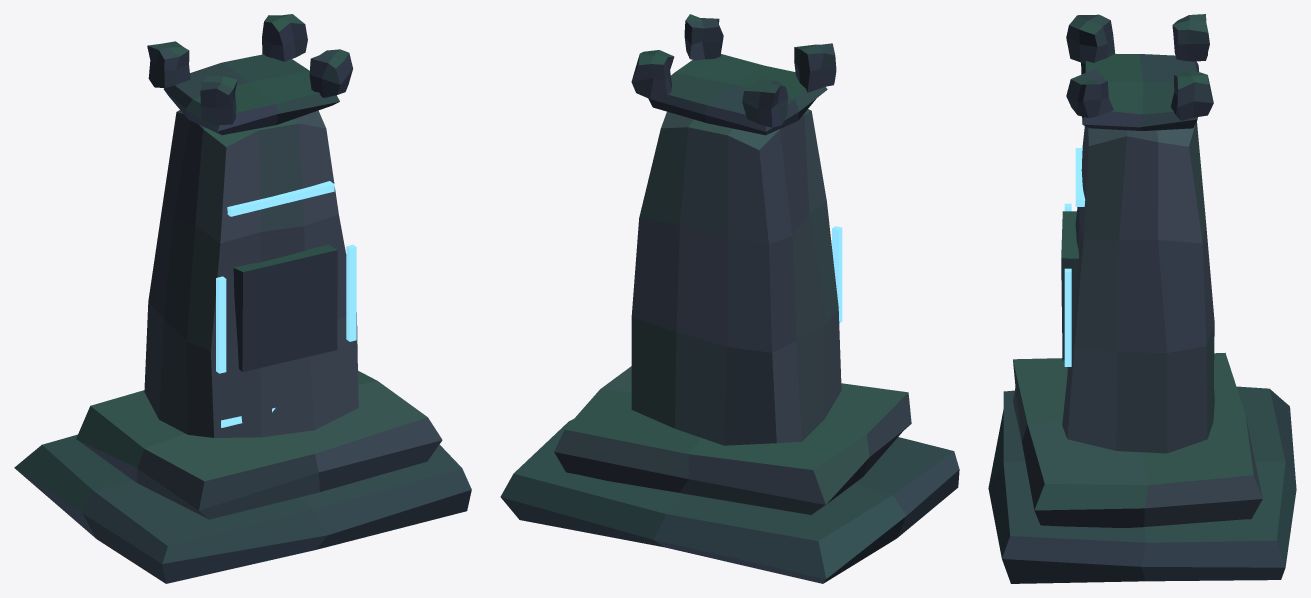
The model's file is skill_rock_0.glb.
The picture shows the model from 3 angles, left to right: view 1: azimuth 30°, elevation 25°; view 2: azimuth 150°, elevation 25°; view 3: azimuth 270°, elevation 25°; orthographic projection.
Parts seen in each view (by area): view 1: skill_rock_0; view 2: skill_rock_0; view 3: skill_rock_0.
Boxes of the visible parts, left/top/right/bottom form: skill_rock_0: left=14, top=14, right=471, bottom=583; skill_rock_0: left=500, top=14, right=959, bottom=583; skill_rock_0: left=988, top=14, right=1296, bottom=583.
Bounding box in the file's own units: 3.04 × 3.84 × 2.33.
